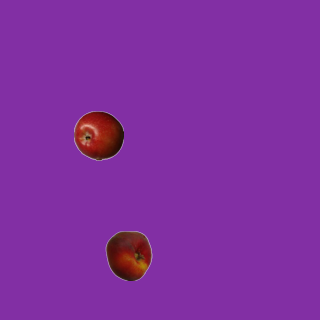Apple Braeburn: (73, 110, 123, 160)
Nectarine Flat: (103, 230, 153, 280)
